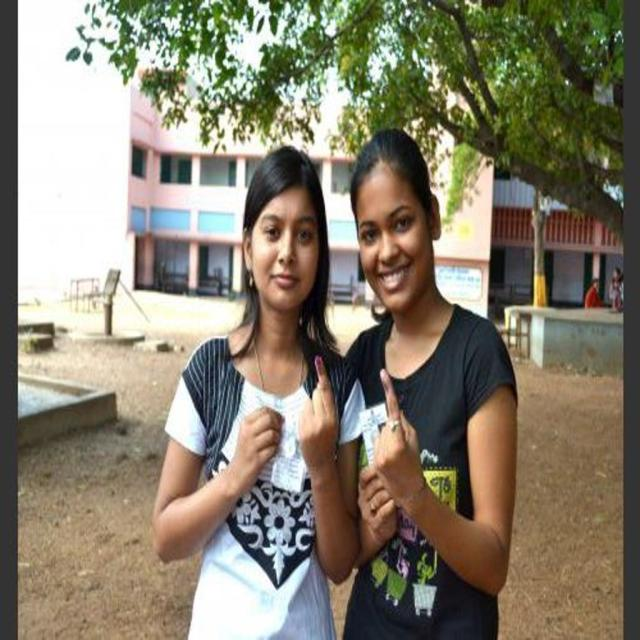Face: (360, 168, 430, 319), (252, 186, 325, 319)
